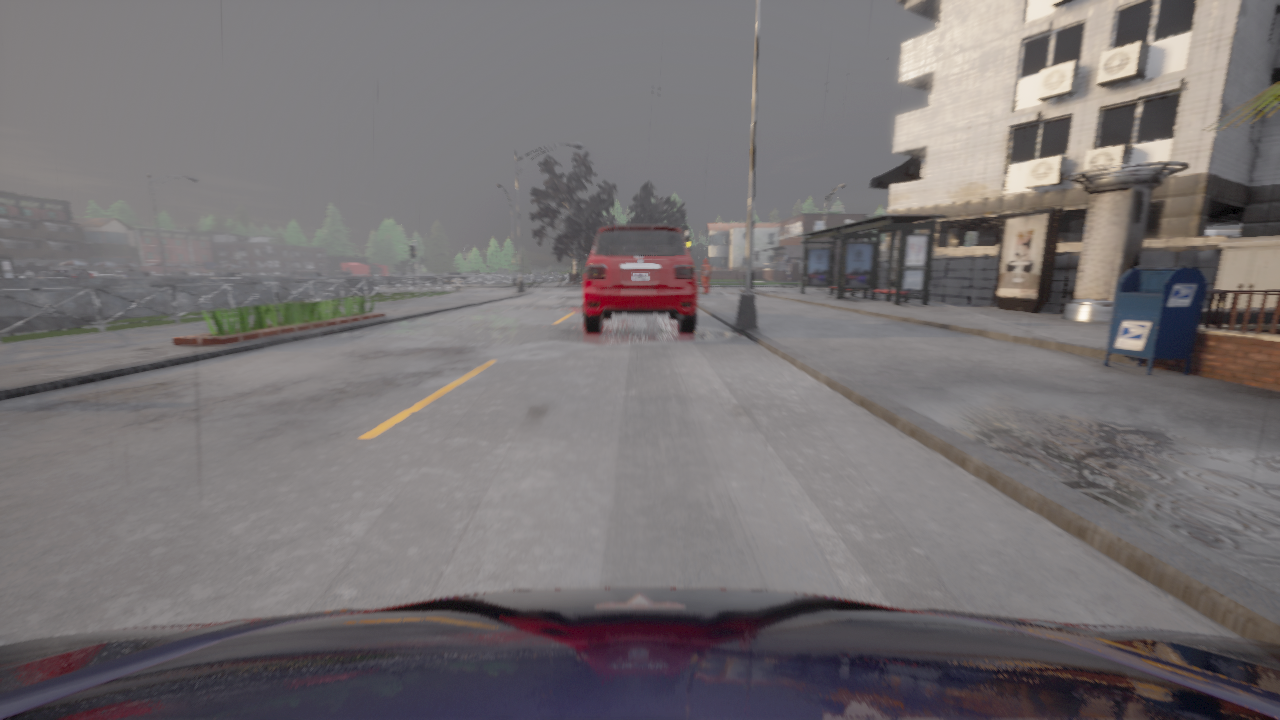cyclist: (0, 588, 1279, 719), (582, 225, 697, 334), (34, 269, 93, 278), (1204, 229, 1240, 237), (124, 275, 125, 277)
pedestrian: (700, 259, 710, 293)
